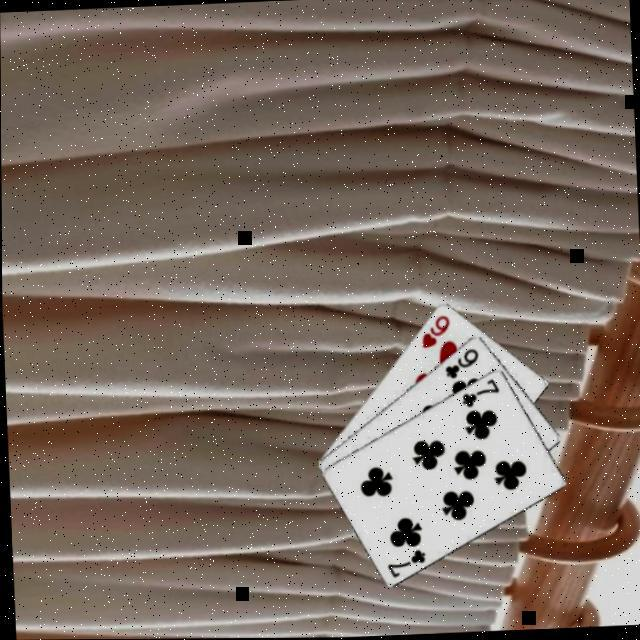7C: (384, 544, 429, 579), (459, 374, 503, 408)
9C: (442, 343, 483, 379)
9H: (418, 310, 454, 349)
